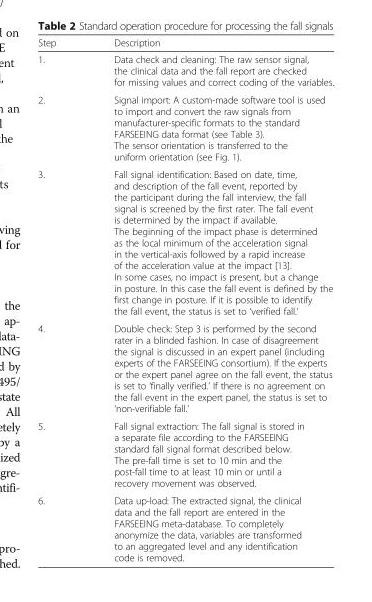table: (37, 36, 333, 562)
table column: (84, 36, 333, 562), (37, 36, 84, 562)
table column header: (37, 36, 333, 50)
table row: (37, 165, 333, 319), (37, 319, 333, 416), (37, 90, 333, 165), (37, 416, 333, 491), (37, 491, 333, 562), (37, 50, 333, 90), (37, 36, 333, 50)
